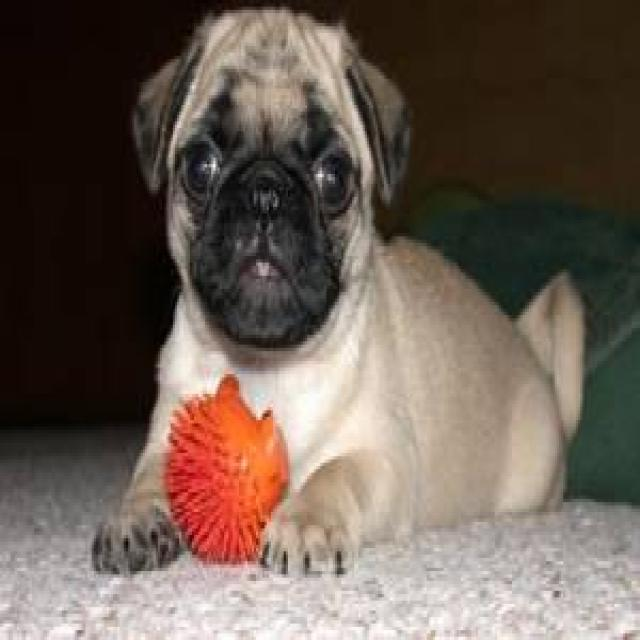dog-pug: (81, 3, 591, 587)
